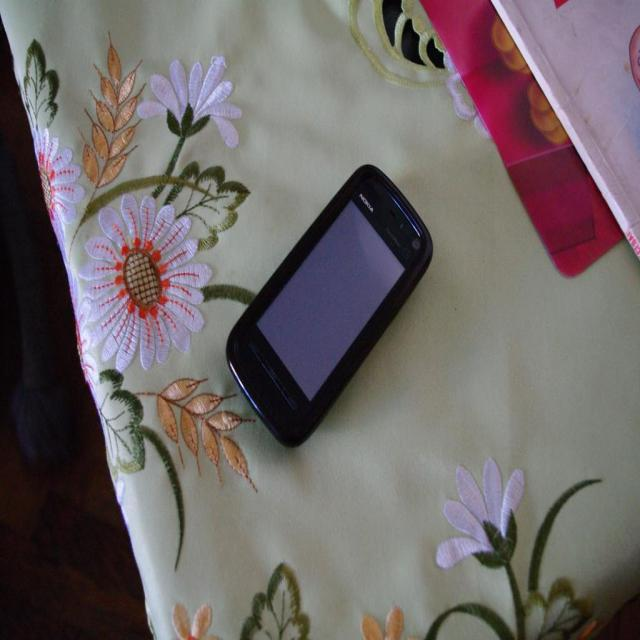Phone: (227, 158, 441, 450)
